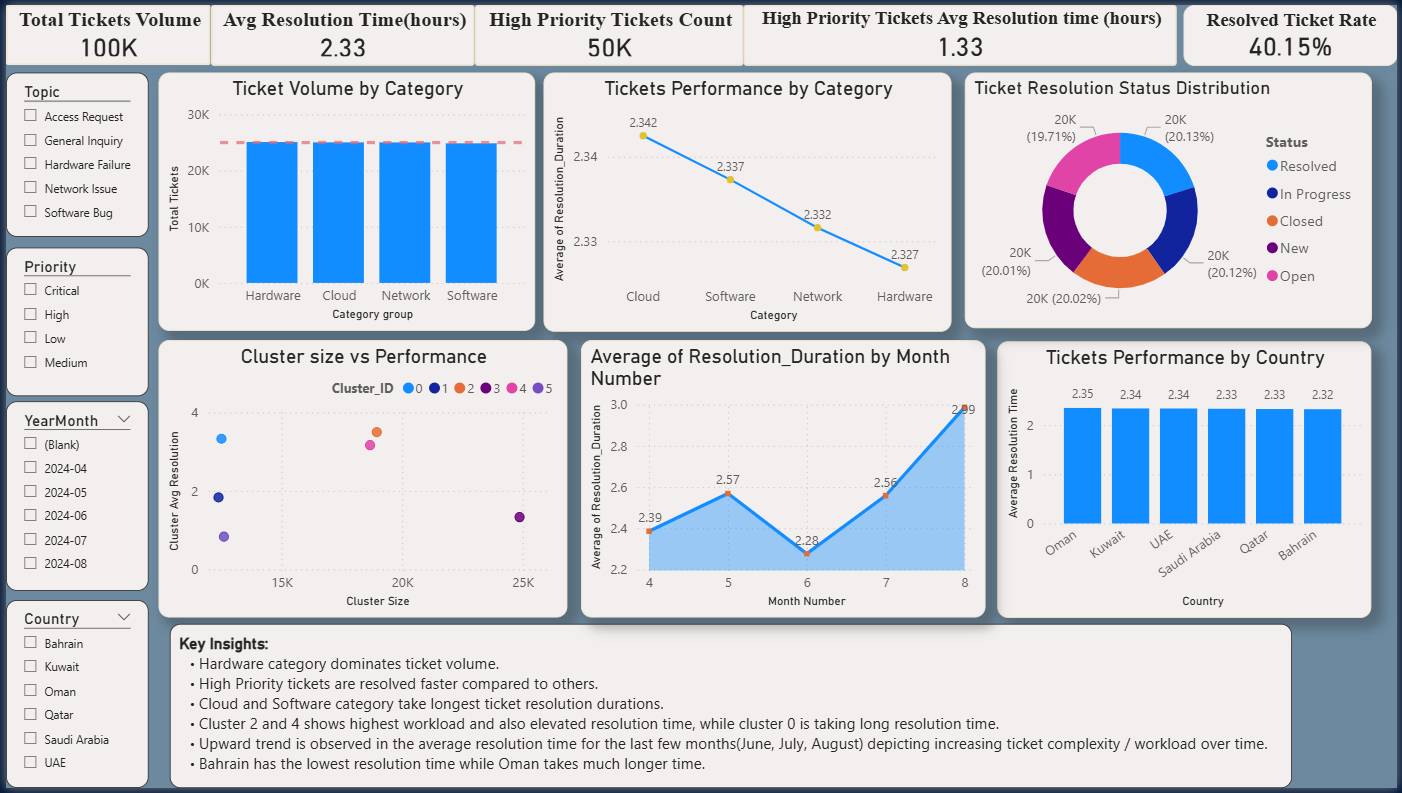

What the dashboard file says about the page in this screenshot:
{"tool":"powerbi","page":{"name":"Page 1","canvas":[1280,720],"ordinal":0},"visuals":[{"type":"card","title":"Total Tickets Volume","fields":{"Values":["ticket_clusters.Total Tickets"]},"box":[0,0,188.4,55.3],"z":0},{"type":"card","title":"Avg Resolution Time(hours)","fields":{"Values":["ticket_clusters.Average Resolution Time"]},"box":[188.1,0,242.7,55.7],"z":1000},{"type":"card","title":"High Priority Tickets Count","fields":{"Values":["ticket_clusters.High Priority Tickets"]},"box":[430.8,0,247.1,55.7],"z":2000},{"type":"card","title":"High Priority Tickets Avg Resolution time (hours)","fields":{"Values":["ticket_clusters.High Priority Avg Resolution"]},"box":[677.9,0,398.5,55.7],"z":3000},{"type":"lineClusteredColumnComboChart","title":"Ticket Volume by Category","fields":{"Category":["ticket_clusters.Product group"],"Y":["ticket_clusters.Total Tickets"]},"box":[139.8,62.5,346.6,237.5],"z":4000},{"type":"lineChart","title":"Tickets Performance by Category","fields":{"Category":["ticket_clusters.Product group"],"Y":["Avg(ticket_clusters.Resolution_Duration)"]},"box":[494.5,62.6,375.5,238],"z":5000},{"type":"scatterChart","title":"Cluster size vs Performance","fields":{"Series":["ticket_clusters.Cluster_ID"],"X":["CountNonNull(ticket_clusters.Cluster_ID)"],"Y":["ticket_clusters.Average Resolution Time"]},"box":[140.3,308.4,376.3,254.9],"z":6000},{"type":"columnChart","title":" Tickets Performance by Country","fields":{"Category":["ticket_clusters.Country"],"Y":["ticket_clusters.Average Resolution Time"]},"box":[911.4,309.1,344.3,254.5],"z":7000},{"type":"slicer","fields":{"Values":["ticket_clusters.Priority"]},"box":[0,222.6,131.4,136.9],"z":8000},{"type":"slicer","fields":{"Values":["ticket_clusters.Topic"]},"box":[0,62.3,131.4,151.4],"z":9000},{"type":"slicer","fields":{"Values":["ticket_clusters.Country"]},"box":[0,546.6,131.4,172.5],"z":10000},{"type":"slicer","fields":{"Values":["Date Table.YearMonth"]},"box":[0,364,131.4,174.8],"z":11000},{"type":"textbox","box":[150.3,568.8,1031.9,151.4],"z":12000},{"type":"lineChart","fields":{"Category":["Date Table.Month No"],"Y":["Avg(ticket_clusters.Resolution_Duration)"]},"box":[528.8,308.4,371.8,254.9],"z":13000},{"type":"donutChart","title":"Ticket Resolution Status Distribution","fields":{"Category":["ticket_clusters.Status"],"Y":["ticket_clusters.Total Tickets"]},"box":[881.6,62.3,374,234.9],"z":14000},{"type":"card","title":"Resolved Ticket Rate","fields":{"Values":["ticket_clusters.Resolution Rate %"]},"box":[1083.1,0,197,55.7],"z":15000}]}

Visuals, with their boxes in screenshot pixels (x1, y1, x2, y2), scaled from the page's 1280x720 canvas onto the 1402x793 screenshot:
"Total Tickets Volume" card: 0 0 206 61
"Avg Resolution Time(hours)" card: 206 0 472 61
"High Priority Tickets Count" card: 472 0 743 61
"High Priority Tickets Avg Resolution time (hours)" card: 743 0 1179 61
"Ticket Volume by Category" lineClusteredColumnComboChart: 153 69 533 330
"Tickets Performance by Category" lineChart: 542 69 953 331
"Cluster size vs Performance" scatterChart: 154 340 566 620
" Tickets Performance by Country" columnChart: 998 340 1375 621
slicer - ticket_clusters.Priority: 0 245 144 396
slicer - ticket_clusters.Topic: 0 69 144 235
slicer - ticket_clusters.Country: 0 602 144 792
slicer - Date Table.YearMonth: 0 401 144 593
textbox: 165 626 1295 792
lineChart - Date Table.Month No x Avg(ticket_clusters.Resolution_Duration): 579 340 986 620
"Ticket Resolution Status Distribution" donutChart: 966 69 1375 327
"Resolved Ticket Rate" card: 1186 0 1401 61
